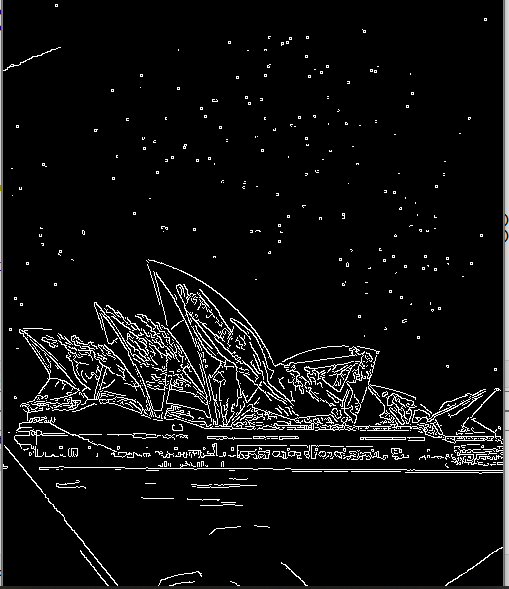opera house: (38, 215, 486, 455)
